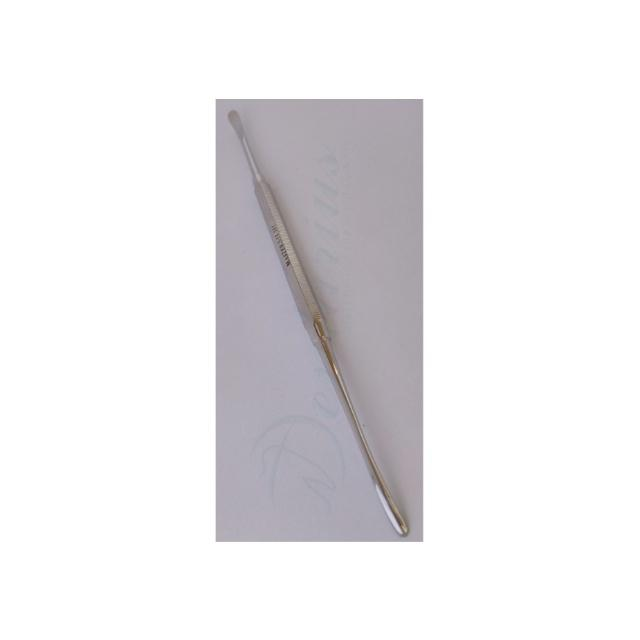elevador: (229, 111, 412, 537)
